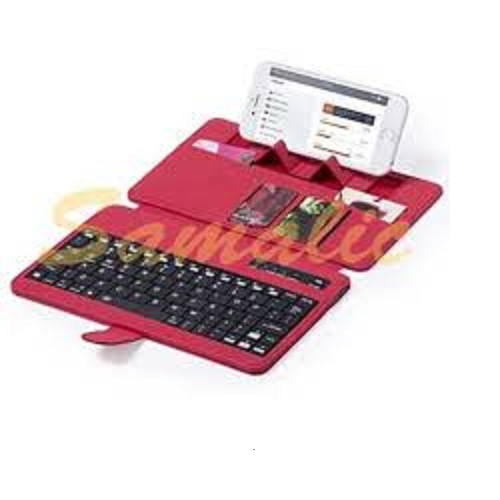Teclado: (17, 206, 355, 374)
